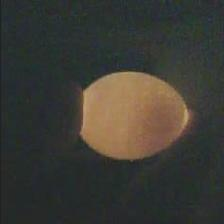infertile: (77, 68, 190, 162)
